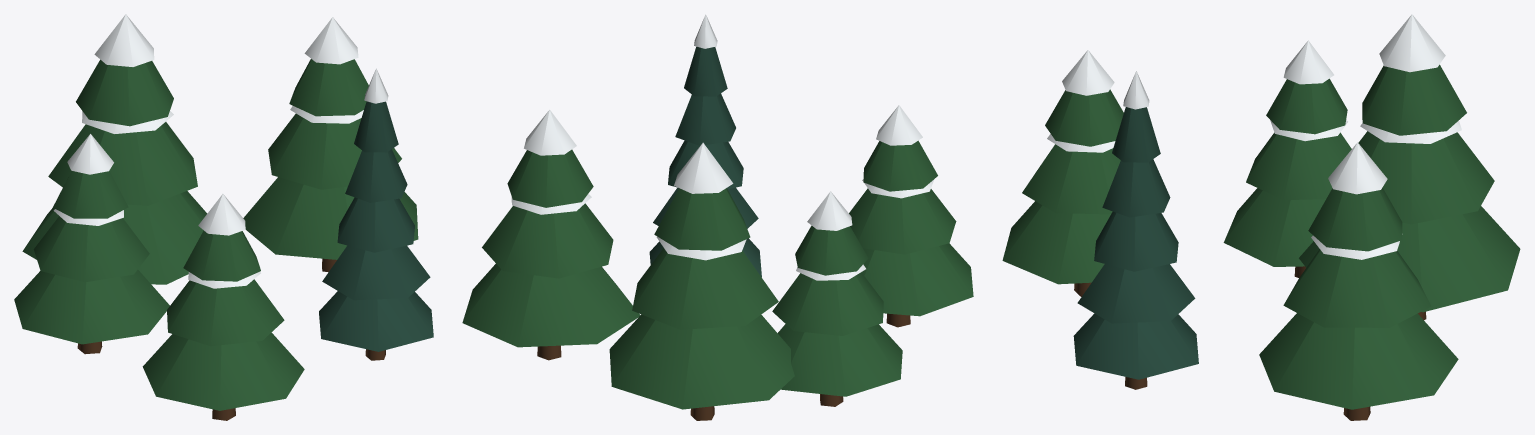
Rendered from sawyer_snowy_stand_e.glb.
3 renders of one model, left to right at view 1: azimuth 30°, elevation 25°; view 2: azimuth 150°, elevation 25°; view 3: azimuth 270°, elevation 25°, orthographic. The views are drawn at different scales.
Visible parts, largest first — view 1: snowpine_0_tier0, snowpine_4_tier0, snowpine_2_tier0, snowpine_1_tier1, snowpine_0_tier1, snowpine_4_tier1, snowpine_1_tier0, snowpine_2_tier1, snowspruce_3_tier0, snowpine_1_tier2, snowspruce_3_tier1, snowpine_2_tier2 (+14 smaller); view 2: snowpine_1_tier0, snowpine_2_tier0, snowpine_1_tier1, snowpine_2_tier1, snowpine_4_tier0, snowpine_0_tier0, snowpine_0_tier1, snowpine_4_tier1, snowpine_1_tier2, snowpine_2_tier2, snowpine_0_tier2, snowpine_4_tier2 (+13 smaller); view 3: snowpine_2_tier0, snowpine_1_tier0, snowpine_2_tier1, snowpine_1_tier1, snowspruce_3_tier0, snowpine_0_tier0, snowpine_1_tier2, snowpine_4_tier0, snowspruce_3_tier1, snowpine_4_tier1, snowpine_0_tier1, snowpine_2_tier2 (+14 smaller).
Part boxes in pixels (<box>): snowpine_0_tier0: <box>142,332,304,410</box>; snowpine_4_tier0: <box>14,269,169,344</box>; snowpine_2_tier0: <box>243,177,418,259</box>; snowpine_1_tier1: <box>48,122,197,205</box>; snowpine_0_tier1: <box>167,279,284,346</box>; snowpine_4_tier1: <box>33,216,149,282</box>; snowpine_1_tier0: <box>22,191,207,284</box>; snowpine_2_tier1: <box>268,113,401,189</box>; snowspruce_3_tier0: <box>319,291,433,351</box>; snowpine_1_tier2: <box>76,59,173,126</box>; snowspruce_3_tier1: <box>322,245,430,300</box>; snowpine_2_tier2: <box>289,59,368,116</box>; snowpine_1_tier0: <box>609,314,794,409</box>; snowpine_2_tier0: <box>462,264,640,347</box>; snowpine_1_tier1: <box>632,248,778,329</box>; snowpine_2_tier1: <box>482,203,613,278</box>; snowpine_4_tier0: <box>777,324,902,396</box>; snowpine_0_tier0: <box>861,243,973,316</box>; snowpine_0_tier1: <box>849,188,956,254</box>; snowpine_4_tier1: <box>772,272,883,335</box>; snowpine_1_tier2: <box>654,188,750,250</box>; snowpine_2_tier2: <box>507,149,593,207</box>; snowpine_0_tier2: <box>863,140,937,191</box>; snowpine_4_tier2: <box>795,225,868,275</box>; snowpine_2_tier0: <box>1259,313,1458,409</box>; snowpine_1_tier0: <box>1299,206,1520,312</box>; snowpine_2_tier1: <box>1283,249,1431,327</box>; snowpine_1_tier1: <box>1358,131,1494,224</box>; snowspruce_3_tier0: <box>1073,313,1198,379</box>; snowpine_0_tier0: <box>1002,201,1110,284</box>; snowpine_1_tier2: <box>1362,64,1466,135</box>; snowpine_4_tier0: <box>1223,188,1325,266</box>; snowspruce_3_tier1: <box>1077,264,1195,323</box>; snowpine_4_tier1: <box>1246,132,1351,200</box>; snowpine_0_tier1: <box>1022,144,1120,214</box>; snowpine_2_tier2: <box>1308,187,1402,251</box>.
Size of the model in its own units: 4.4 by 2.92 by 4.36.
